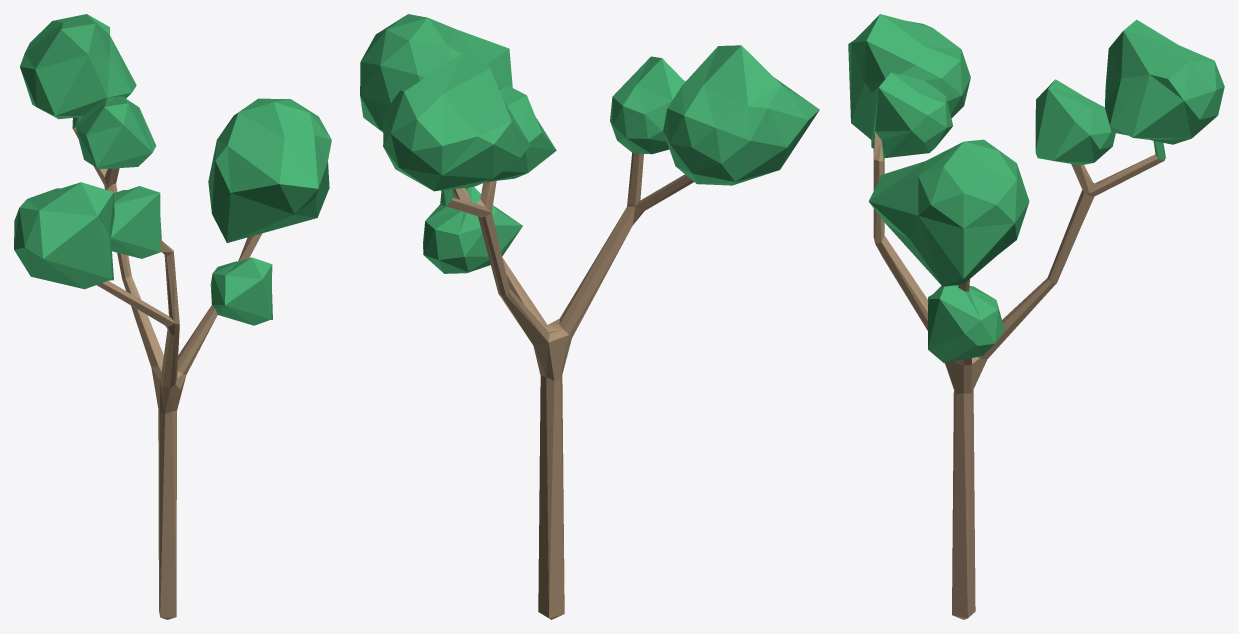
File: tree43.fbx
3 views of the same model, side by side, from view 1: azimuth 30°, elevation 25°; view 2: azimuth 150°, elevation 25°; view 3: azimuth 270°, elevation 25° (orthographic). The views are drawn at different scales.
Visible parts, largest first — view 1: treetype43; view 2: treetype43; view 3: treetype43.
Boxes of the visible parts, x1,y1,x2,y2 form: treetype43: [14, 14, 331, 619]; treetype43: [360, 14, 819, 619]; treetype43: [848, 14, 1224, 619].
Size of the model in its own units: 146 by 220 by 128.
